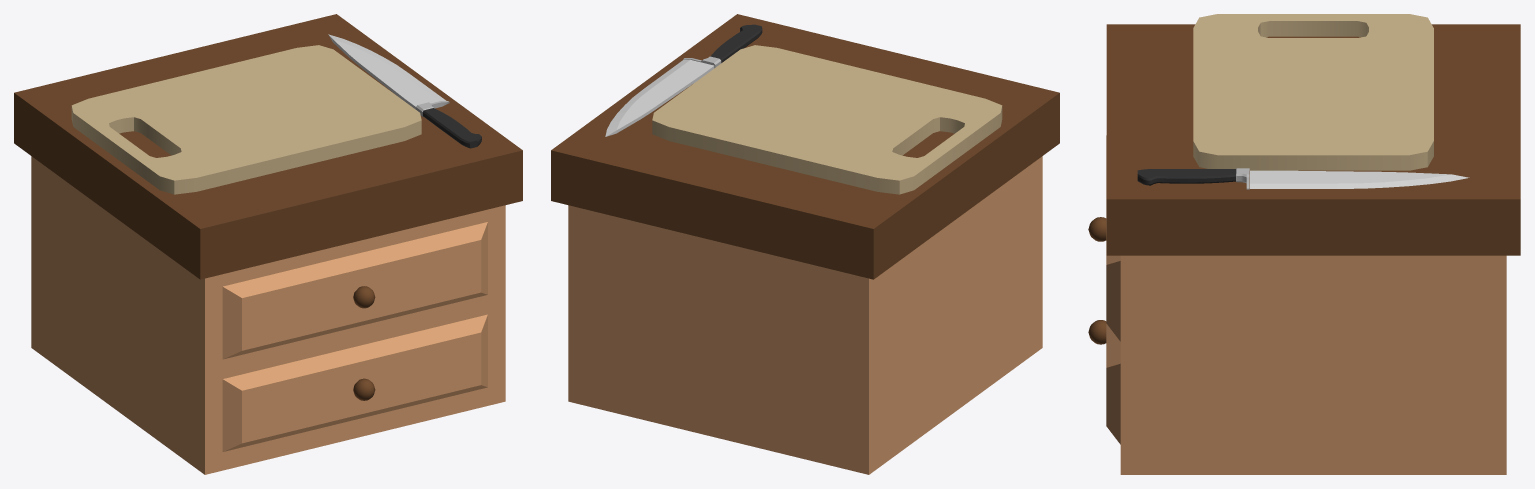
File: ASFTR_CounterCuttingBoard.fbx
The picture shows the model from 3 angles, left to right: view 1: azimuth 30°, elevation 25°; view 2: azimuth 150°, elevation 25°; view 3: azimuth 270°, elevation 25°; orthographic projection. The views are drawn at different scales.
Visible parts, largest first — view 1: ASFTR_CounterCuttingBoard, ASFTR_Knife; view 2: ASFTR_CounterCuttingBoard, ASFTR_Knife; view 3: ASFTR_CounterCuttingBoard, ASFTR_Knife.
Part boxes in pixels (<box>): ASFTR_CounterCuttingBoard: <box>14,14,522,474</box>; ASFTR_Knife: <box>328,34,481,148</box>; ASFTR_CounterCuttingBoard: <box>551,14,1059,474</box>; ASFTR_Knife: <box>605,24,762,136</box>; ASFTR_CounterCuttingBoard: <box>1088,14,1520,474</box>; ASFTR_Knife: <box>1137,168,1469,189</box>.
Bounding box in the file's own units: 100 × 79.14 × 104.
